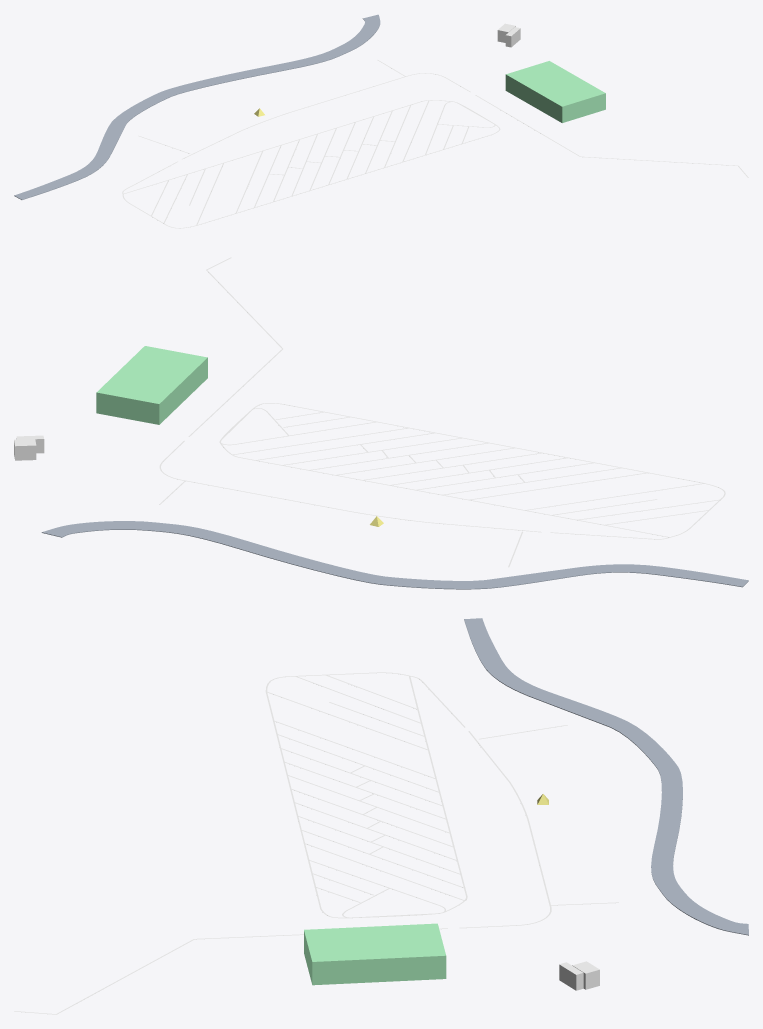
The model's file is align.gltf.
3 views of the same model, one above another, from view 1: azimuth 30°, elevation 25°; view 2: azimuth 150°, elevation 25°; view 3: azimuth 270°, elevation 25° (orthographic). The views are drawn at different scales.
Visible parts, largest first — view 1: Line023, Box004, Line021; view 2: Line023, Line021, Box004; view 3: Line023, Box004, Line021.
Part boxes in pixels (x1=…): Line023: x1=14, y1=14, x2=380, y2=199; Box004: x1=505, y1=61, x2=605, y2=122; Line021: x1=122, y1=60, x2=748, y2=228; Line023: x1=41, y1=521, x2=748, y2=589; Line021: x1=159, y1=257, x2=725, y2=567; Box004: x1=96, y1=346, x2=207, y2=424; Line023: x1=464, y1=618, x2=748, y2=935; Box004: x1=304, y1=923, x2=446, y2=985; Line021: x1=14, y1=672, x2=618, y2=1014.
Size of the model in its own units: 122 by 3.43 by 95.51.
